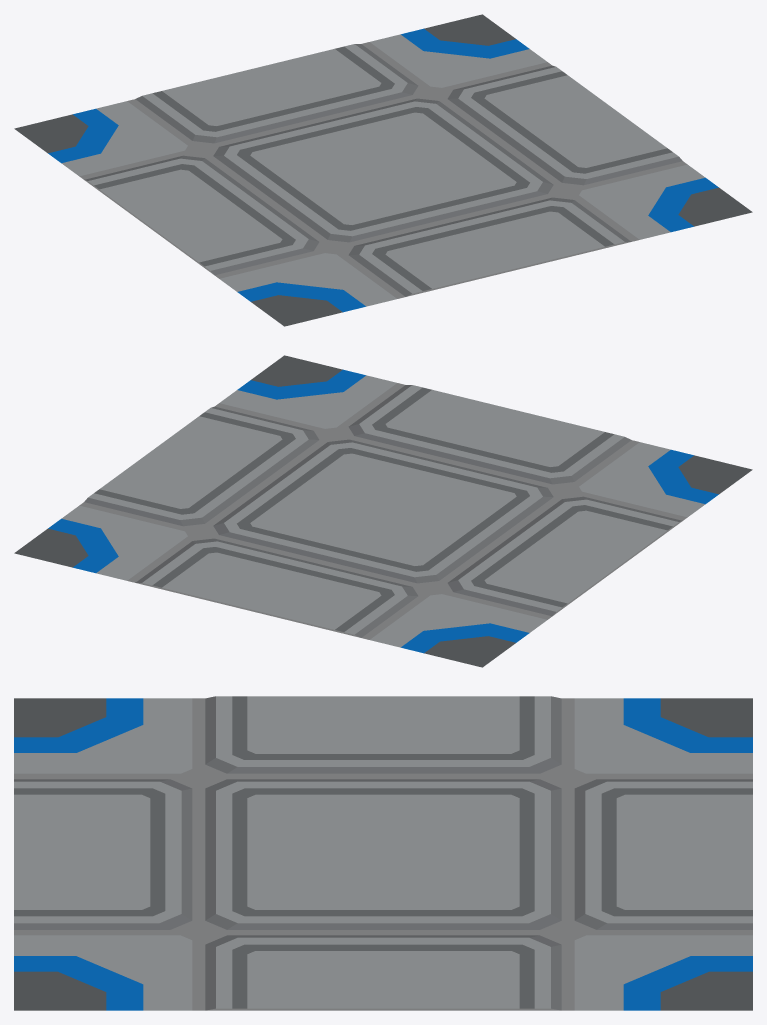
Rendered from Floor_type_B_029.fbx.
3 views of the same model, one above another, from view 1: azimuth 30°, elevation 25°; view 2: azimuth 150°, elevation 25°; view 3: azimuth 270°, elevation 25° (orthographic). The views are drawn at different scales.
Parts seen in each view (by area): view 1: Floor_type_B_029; view 2: Floor_type_B_029; view 3: Floor_type_B_029.
Part boxes in pixels (left/top/right/bottom): Floor_type_B_029: left=14, top=14, right=752, bottom=326; Floor_type_B_029: left=14, top=355, right=752, bottom=667; Floor_type_B_029: left=14, top=696, right=752, bottom=1010.
Size of the model in its own units: 400 by 400 by 1.34.
